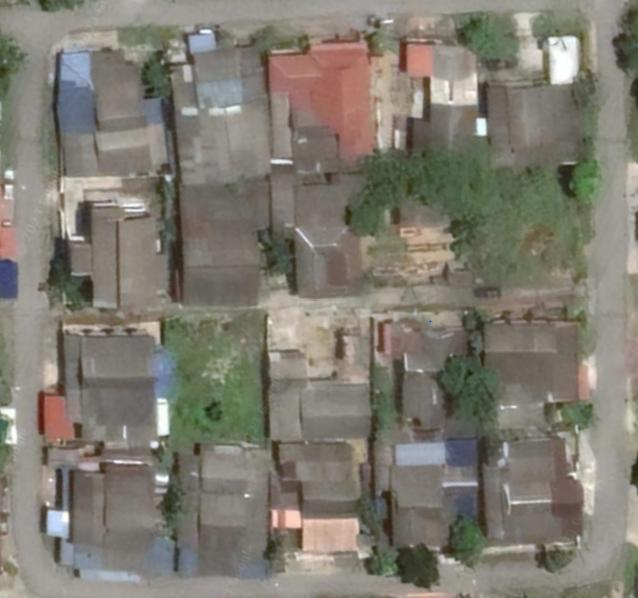building: (30, 320, 174, 459), (47, 38, 175, 184), (161, 18, 273, 184), (36, 459, 178, 586), (267, 31, 386, 175), (483, 30, 596, 176), (49, 191, 175, 320), (174, 174, 280, 311), (270, 172, 377, 305), (176, 437, 269, 587), (481, 426, 592, 549), (269, 438, 376, 565), (390, 30, 493, 161), (377, 428, 482, 556), (479, 303, 592, 415), (370, 313, 474, 434), (263, 343, 376, 441)
